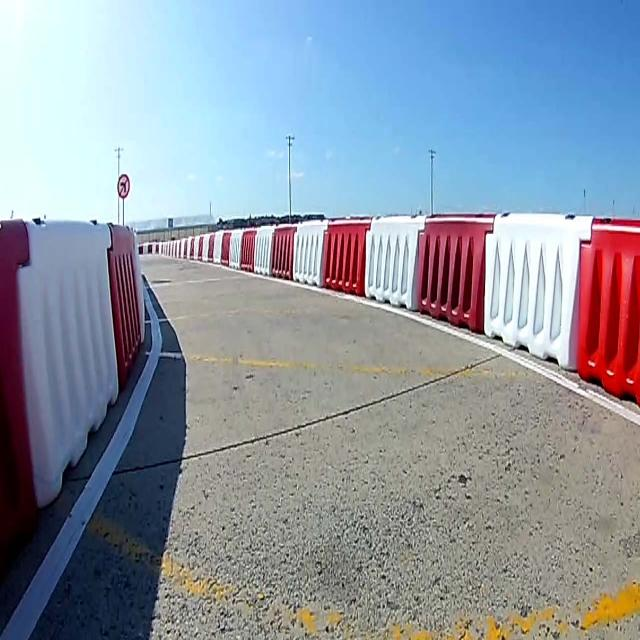soladonulmez: (118, 172, 130, 200)
